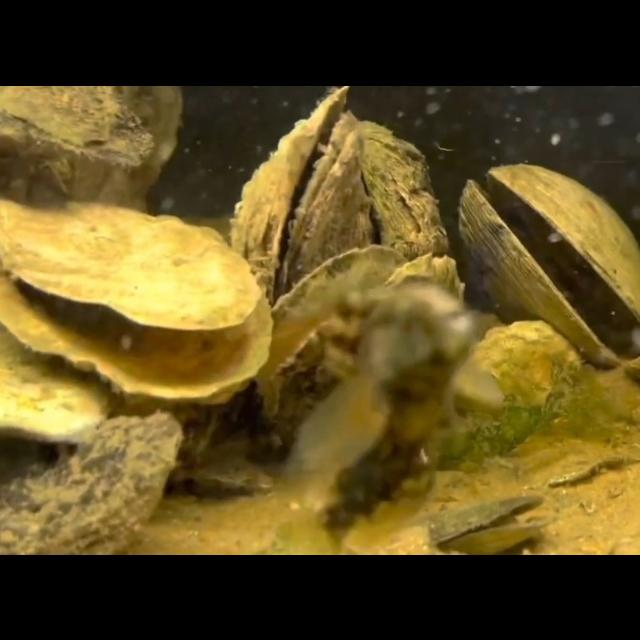Oyster-Closed: (1, 410, 187, 554), (427, 316, 585, 468), (0, 322, 111, 446), (356, 116, 450, 256), (0, 84, 154, 168)
Oyster-Open: (0, 197, 274, 400), (457, 162, 640, 370), (257, 243, 469, 422), (229, 85, 367, 295), (407, 491, 551, 555), (164, 434, 276, 500)
